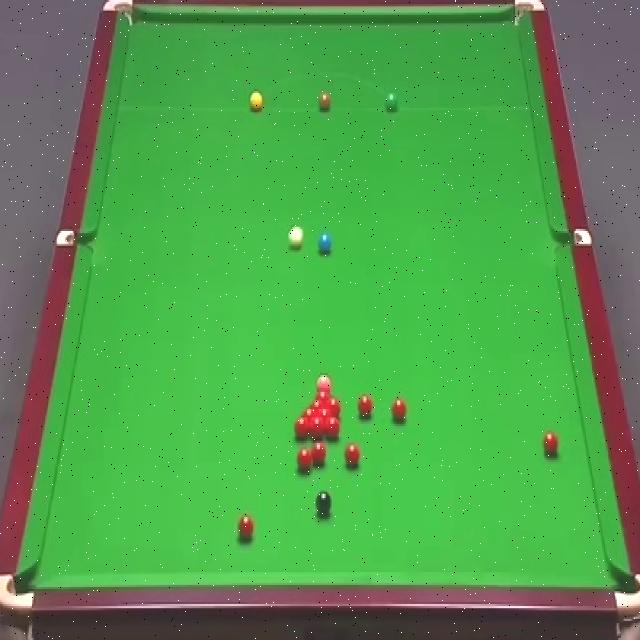black-ball: (315, 490, 332, 517)
blue-ball: (318, 233, 332, 256)
brown-ball: (318, 92, 330, 112)
green-ball: (385, 91, 397, 112)
pink-ball: (316, 375, 332, 390)
red-ball: (238, 514, 255, 540), (325, 416, 340, 442), (543, 431, 559, 455), (309, 416, 324, 441), (294, 418, 310, 440), (297, 449, 312, 472), (345, 444, 360, 467), (358, 395, 373, 418), (392, 398, 406, 422), (326, 399, 341, 412), (316, 389, 330, 402), (306, 408, 317, 417), (319, 409, 333, 416), (313, 401, 327, 407)
white-ball: (288, 225, 303, 250)
yellow-ball: (249, 89, 263, 112)
